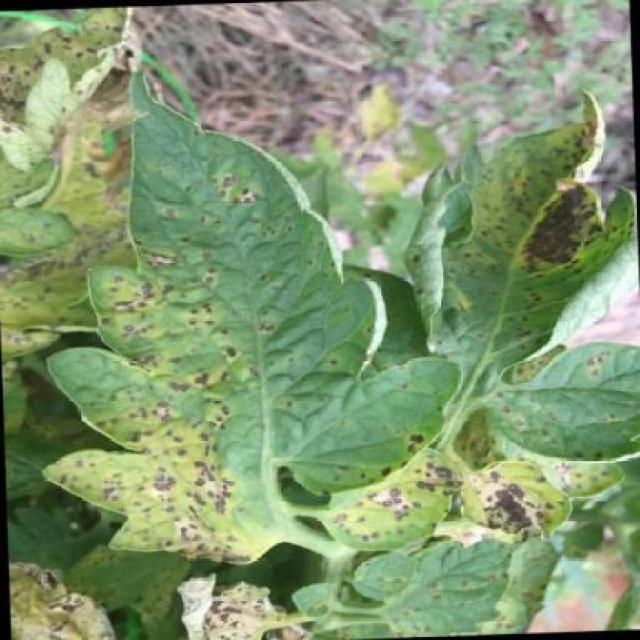Septoria leaf spot: (46, 140, 280, 566), (417, 87, 638, 310), (298, 434, 577, 555), (332, 532, 543, 638), (489, 349, 638, 468)
